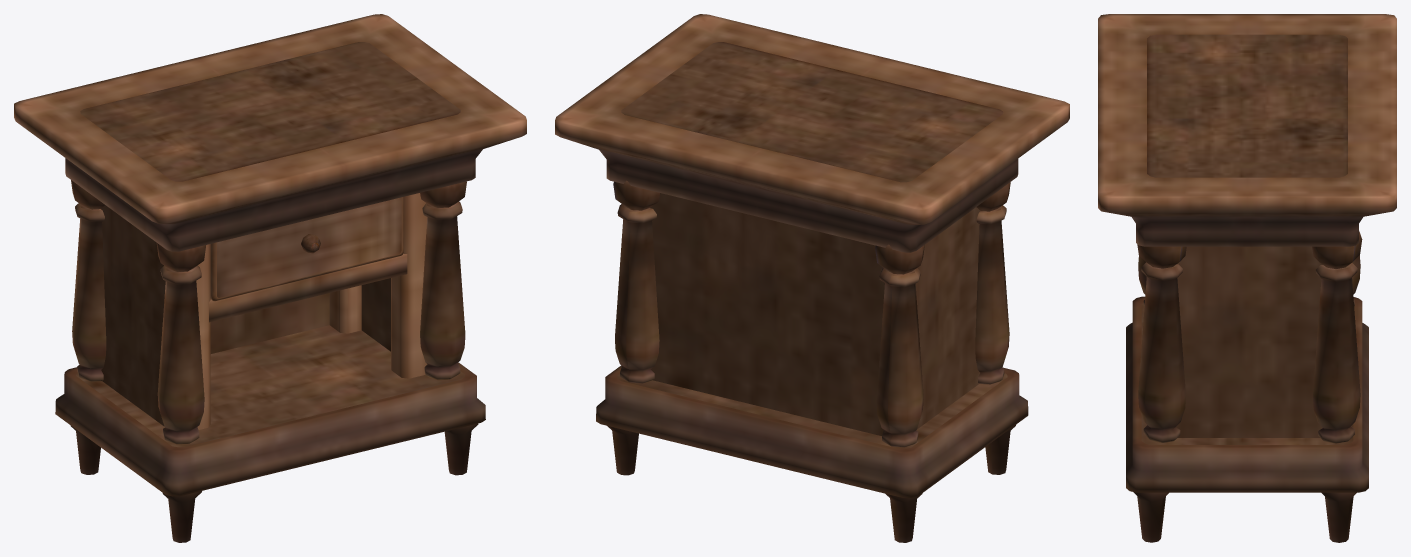
The model's file is comfort3_t2_table_night.glb.
3 views of the same model, side by side, from view 1: azimuth 30°, elevation 25°; view 2: azimuth 150°, elevation 25°; view 3: azimuth 270°, elevation 25° (orthographic).
Visible parts, largest first — view 1: castleprops_furniture_bed_table_01; view 2: castleprops_furniture_bed_table_01; view 3: castleprops_furniture_bed_table_01.
Boxes of the visible parts, bbox=[...] form: castleprops_furniture_bed_table_01: bbox=[14, 14, 526, 542]; castleprops_furniture_bed_table_01: bbox=[555, 14, 1069, 542]; castleprops_furniture_bed_table_01: bbox=[1098, 14, 1396, 542].
Size of the model in its own units: 1.18 by 1.08 by 0.807.
1 material, 1 textured.
